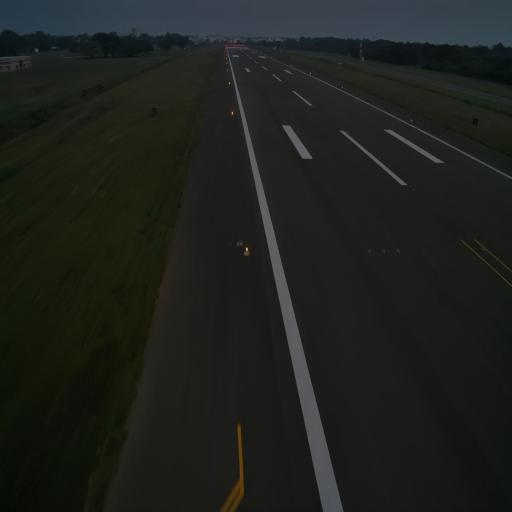off: (366, 246, 372, 258), (481, 244, 487, 255), (396, 246, 402, 256), (382, 246, 387, 256), (411, 185, 416, 193), (319, 150, 324, 157), (311, 150, 315, 156), (414, 154, 417, 160), (422, 154, 424, 160)
on: (243, 244, 251, 258), (230, 108, 235, 117), (410, 116, 414, 125)
